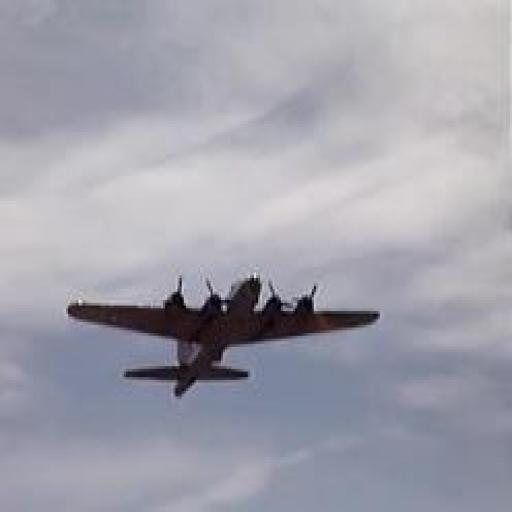aircraft: (66, 275, 382, 402)
